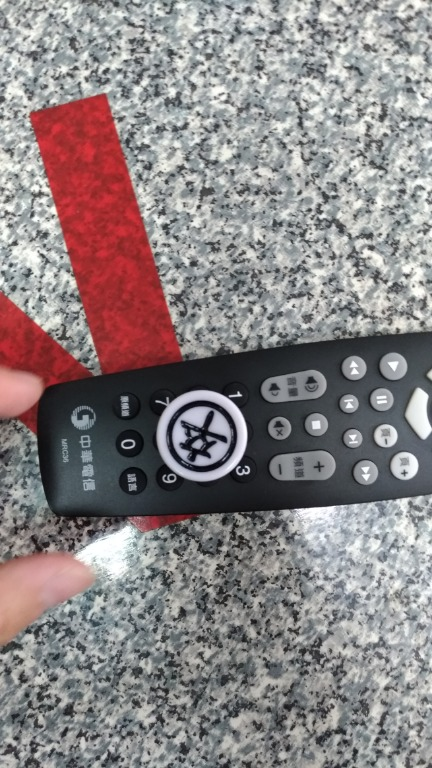b-pawn: (130, 374, 263, 494)
